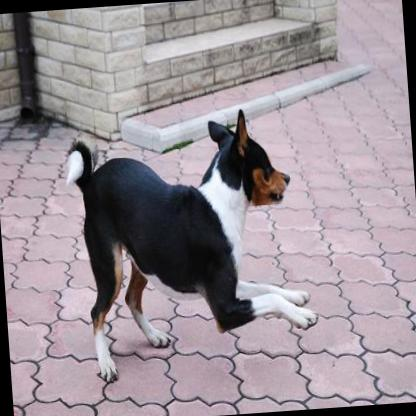basenji: (59, 102, 323, 386)
